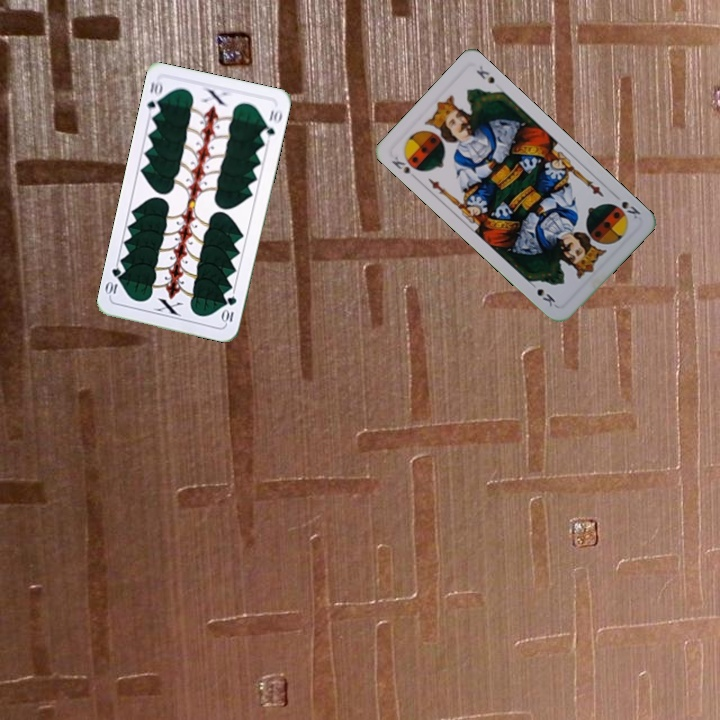G10: (143, 77, 165, 118), (219, 292, 239, 326)
SK: (387, 152, 421, 183), (617, 197, 643, 223)
